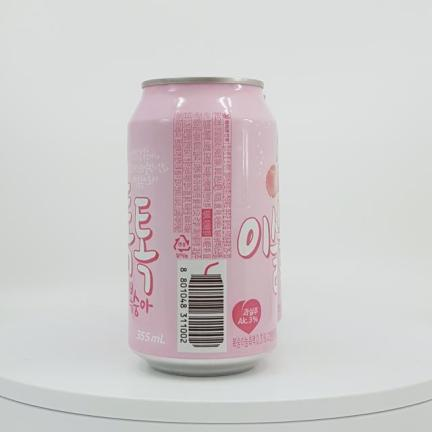can: (128, 78, 280, 375)
